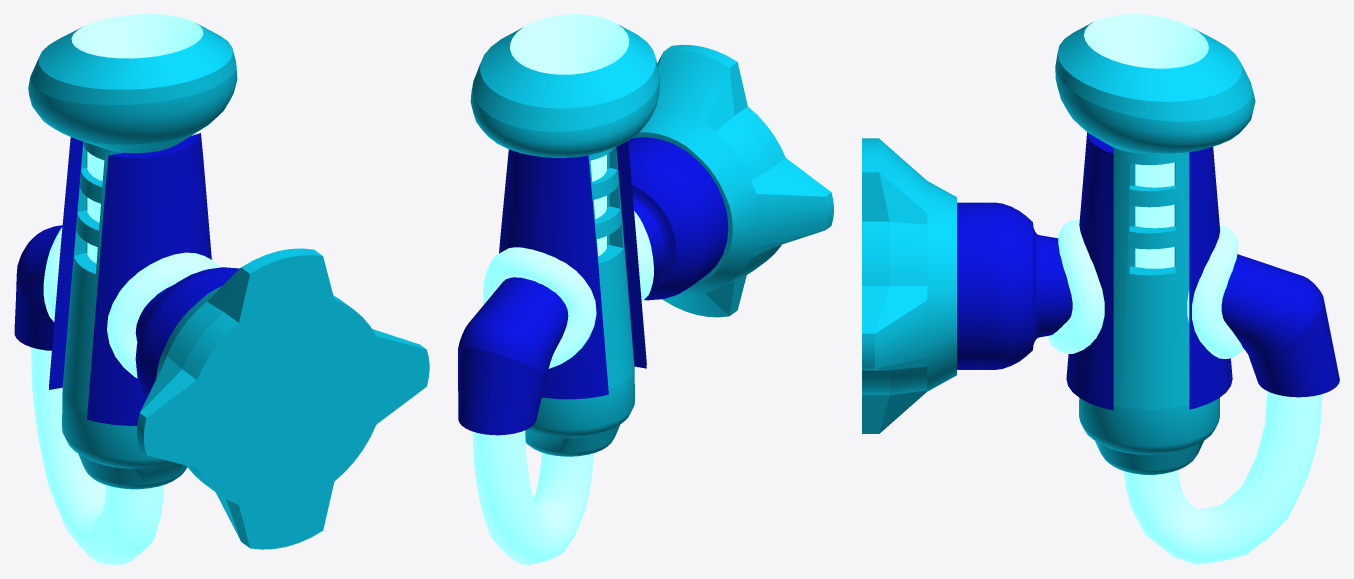
The model's file is CryoCanon4.fbx.
3 views of the same model, side by side, from view 1: azimuth 30°, elevation 25°; view 2: azimuth 150°, elevation 25°; view 3: azimuth 270°, elevation 25° (orthographic). The views are drawn at different scales.
Parts seen in each view (by area): view 1: JA, Cylinder, Cylinder.002, Plane.001, Cylinder.001, Cylinder.002_Curve.001, Cylinder.002_Curve, Cylinder.003; view 2: Cylinder, Cylinder.001, JA, Cylinder.002, Plane.001, Cylinder.002_Curve, Cylinder.002_Curve.001, Cylinder.003; view 3: Cylinder, Cylinder.001, JA, Plane.001, Cylinder.002, Cylinder.002_Curve.001, Cylinder.002_Curve, Cylinder.003.
Part boxes in pixels (x1,y1,x2,y2): JA: (137,248,429,549); Cylinder: (28,14,237,489); Cylinder.002: (49,133,211,425); Plane.001: (31,347,164,564); Cylinder.001: (14,225,239,399); Cylinder.002_Curve.001: (107,252,219,378); Cylinder.002_Curve: (43,227,62,321); Cylinder.003: (87,151,104,263); Cylinder: (470,14,659,456); Cylinder.001: (458,137,728,435); JA: (632,44,833,317); Cylinder.002: (499,141,646,399); Plane.001: (472,430,593,564); Cylinder.002_Curve: (483,247,596,368); Cylinder.002_Curve.001: (634,211,653,301); Cylinder.003: (590,154,606,256); Cylinder: (1055,14,1255,474); Cylinder.001: (957,202,1339,397); JA: (862,138,956,433); Plane.001: (1123,391,1322,564); Cylinder.002: (1066,132,1232,410); Cylinder.002_Curve.001: (1048,220,1104,353); Cylinder.002_Curve: (1187,225,1242,358); Cylinder.003: (1135,162,1174,268).
Bounding box in the file's own units: 1669 × 3088 × 2536.
